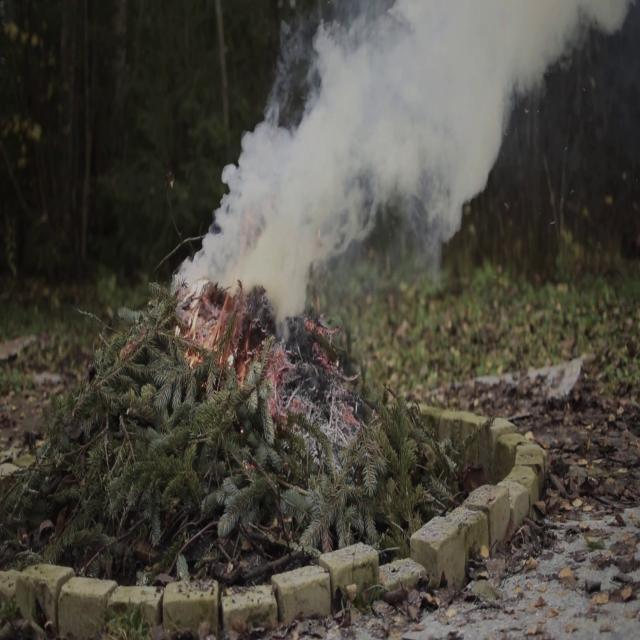Smoke: (170, 0, 580, 288)
